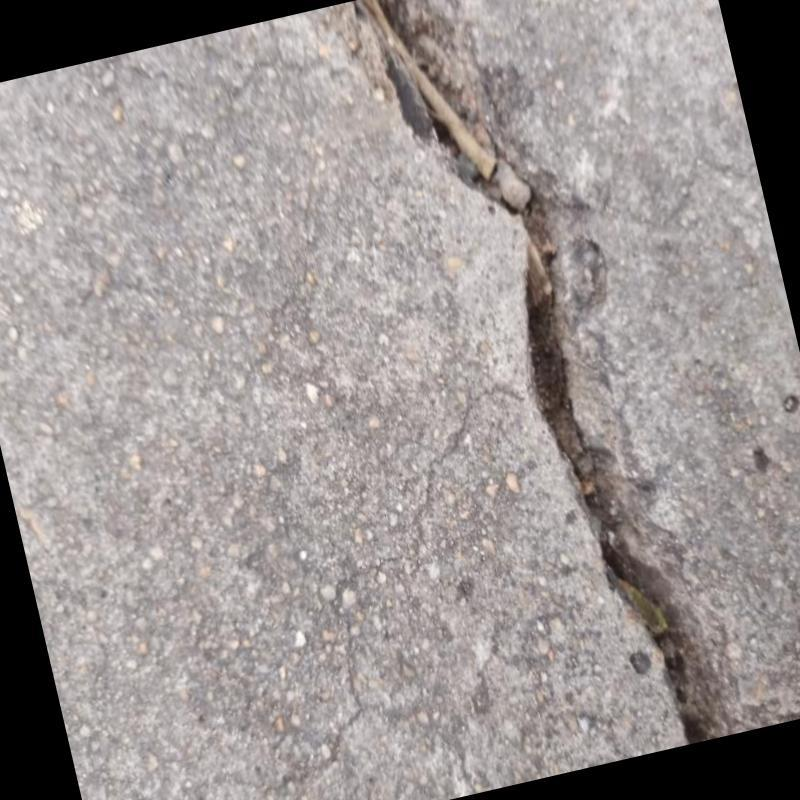pothole: (362, 0, 720, 741)
